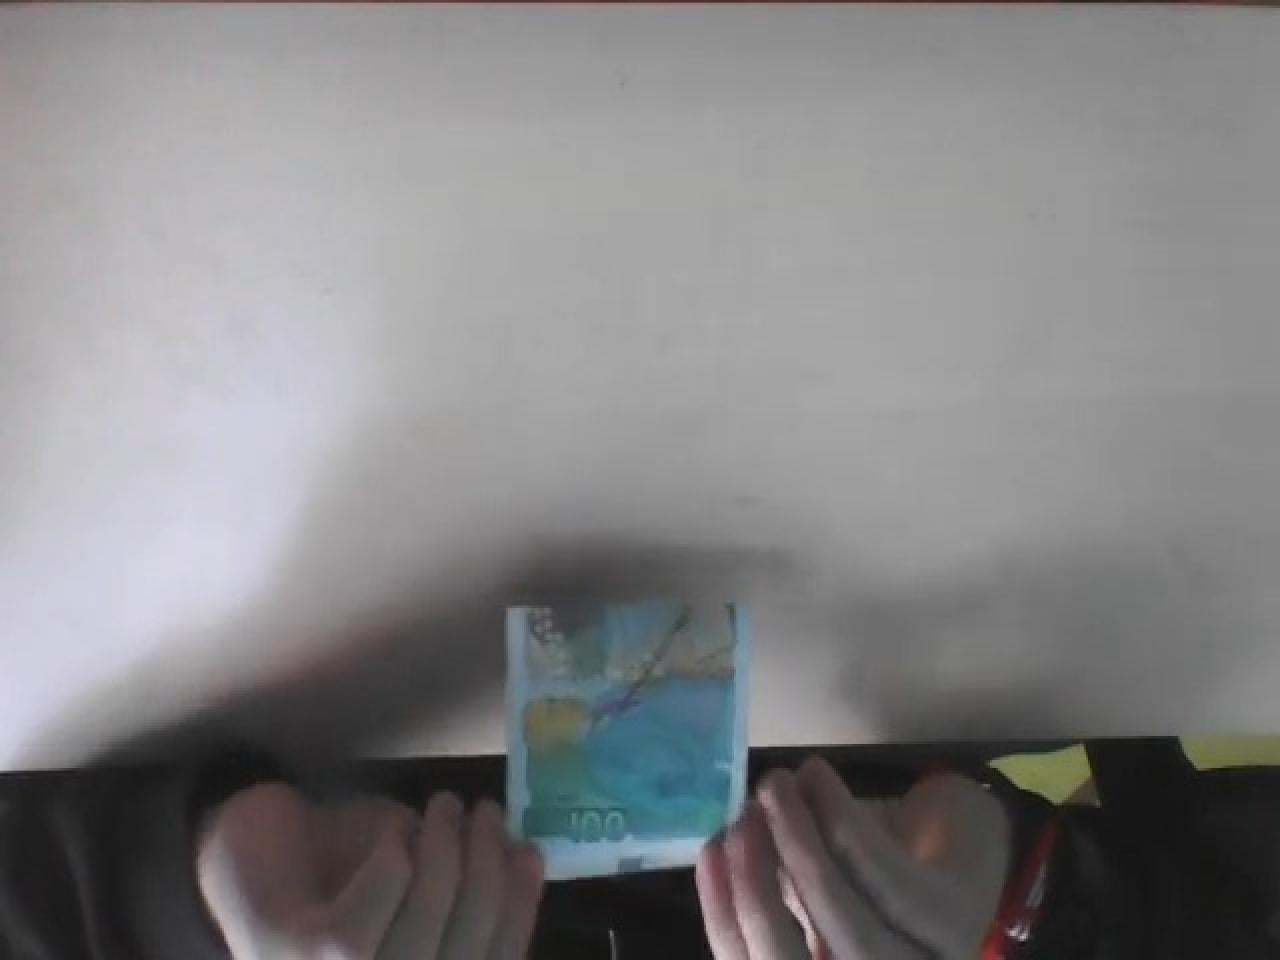100leva: (506, 595, 754, 880)
